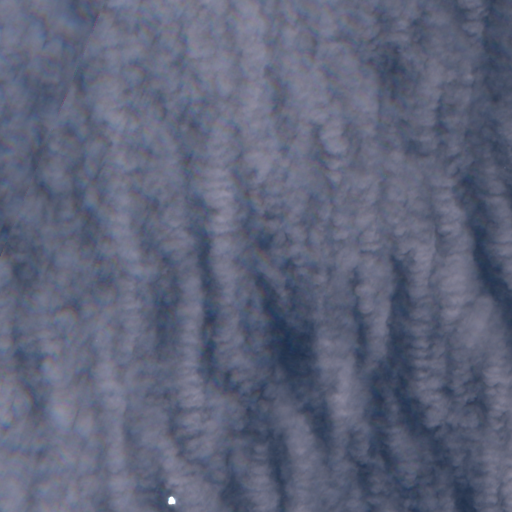Iceberg: (168, 496, 175, 504)
